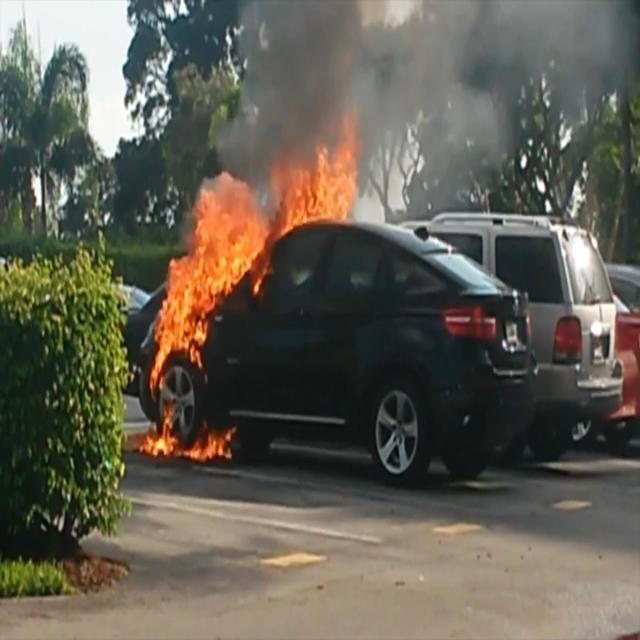fire: (132, 127, 361, 467)
